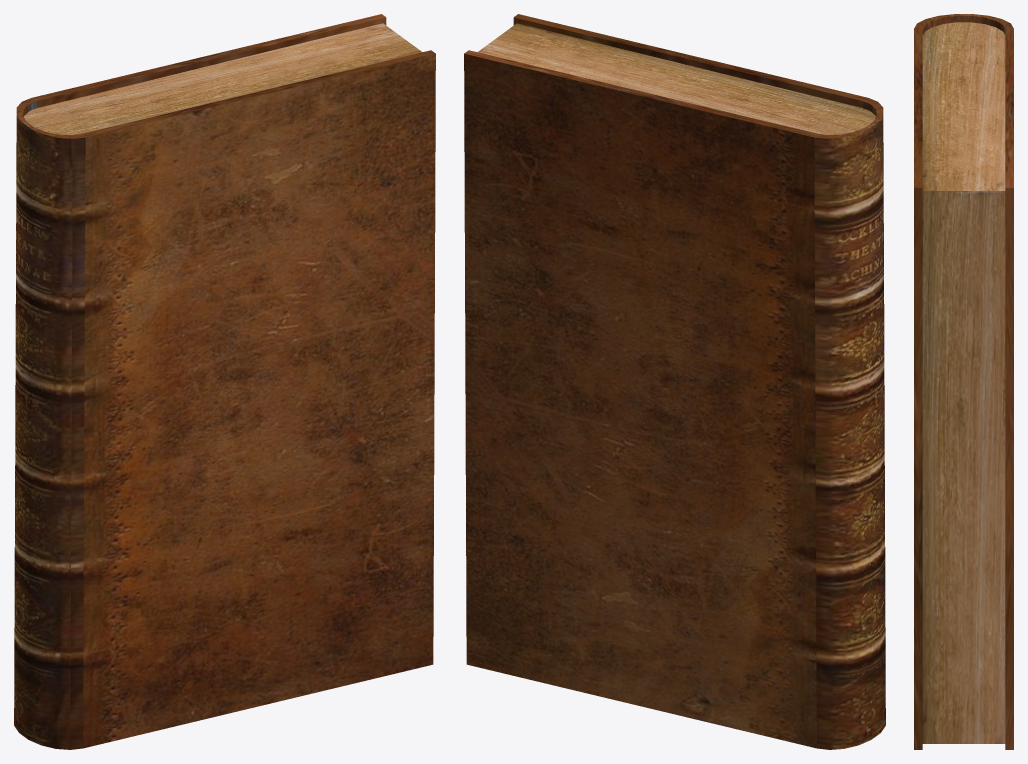
Rendered from SM_Book04.fbx.
3 renders of one model, left to right at view 1: azimuth 30°, elevation 25°; view 2: azimuth 150°, elevation 25°; view 3: azimuth 270°, elevation 25°, orthographic. The views are drawn at different scales.
Visible parts, largest first — view 1: SM_Book_HP.008; view 2: SM_Book_HP.008; view 3: SM_Book_HP.008.
Boxes of the visible parts, x1,y1,x2,y2 form: SM_Book_HP.008: (14, 14, 435, 749); SM_Book_HP.008: (464, 14, 885, 749); SM_Book_HP.008: (914, 14, 1013, 749).
Bounding box in the file's own units: 17.25 × 26.21 × 4.2.
Materials: 2 (2 with a texture image).
